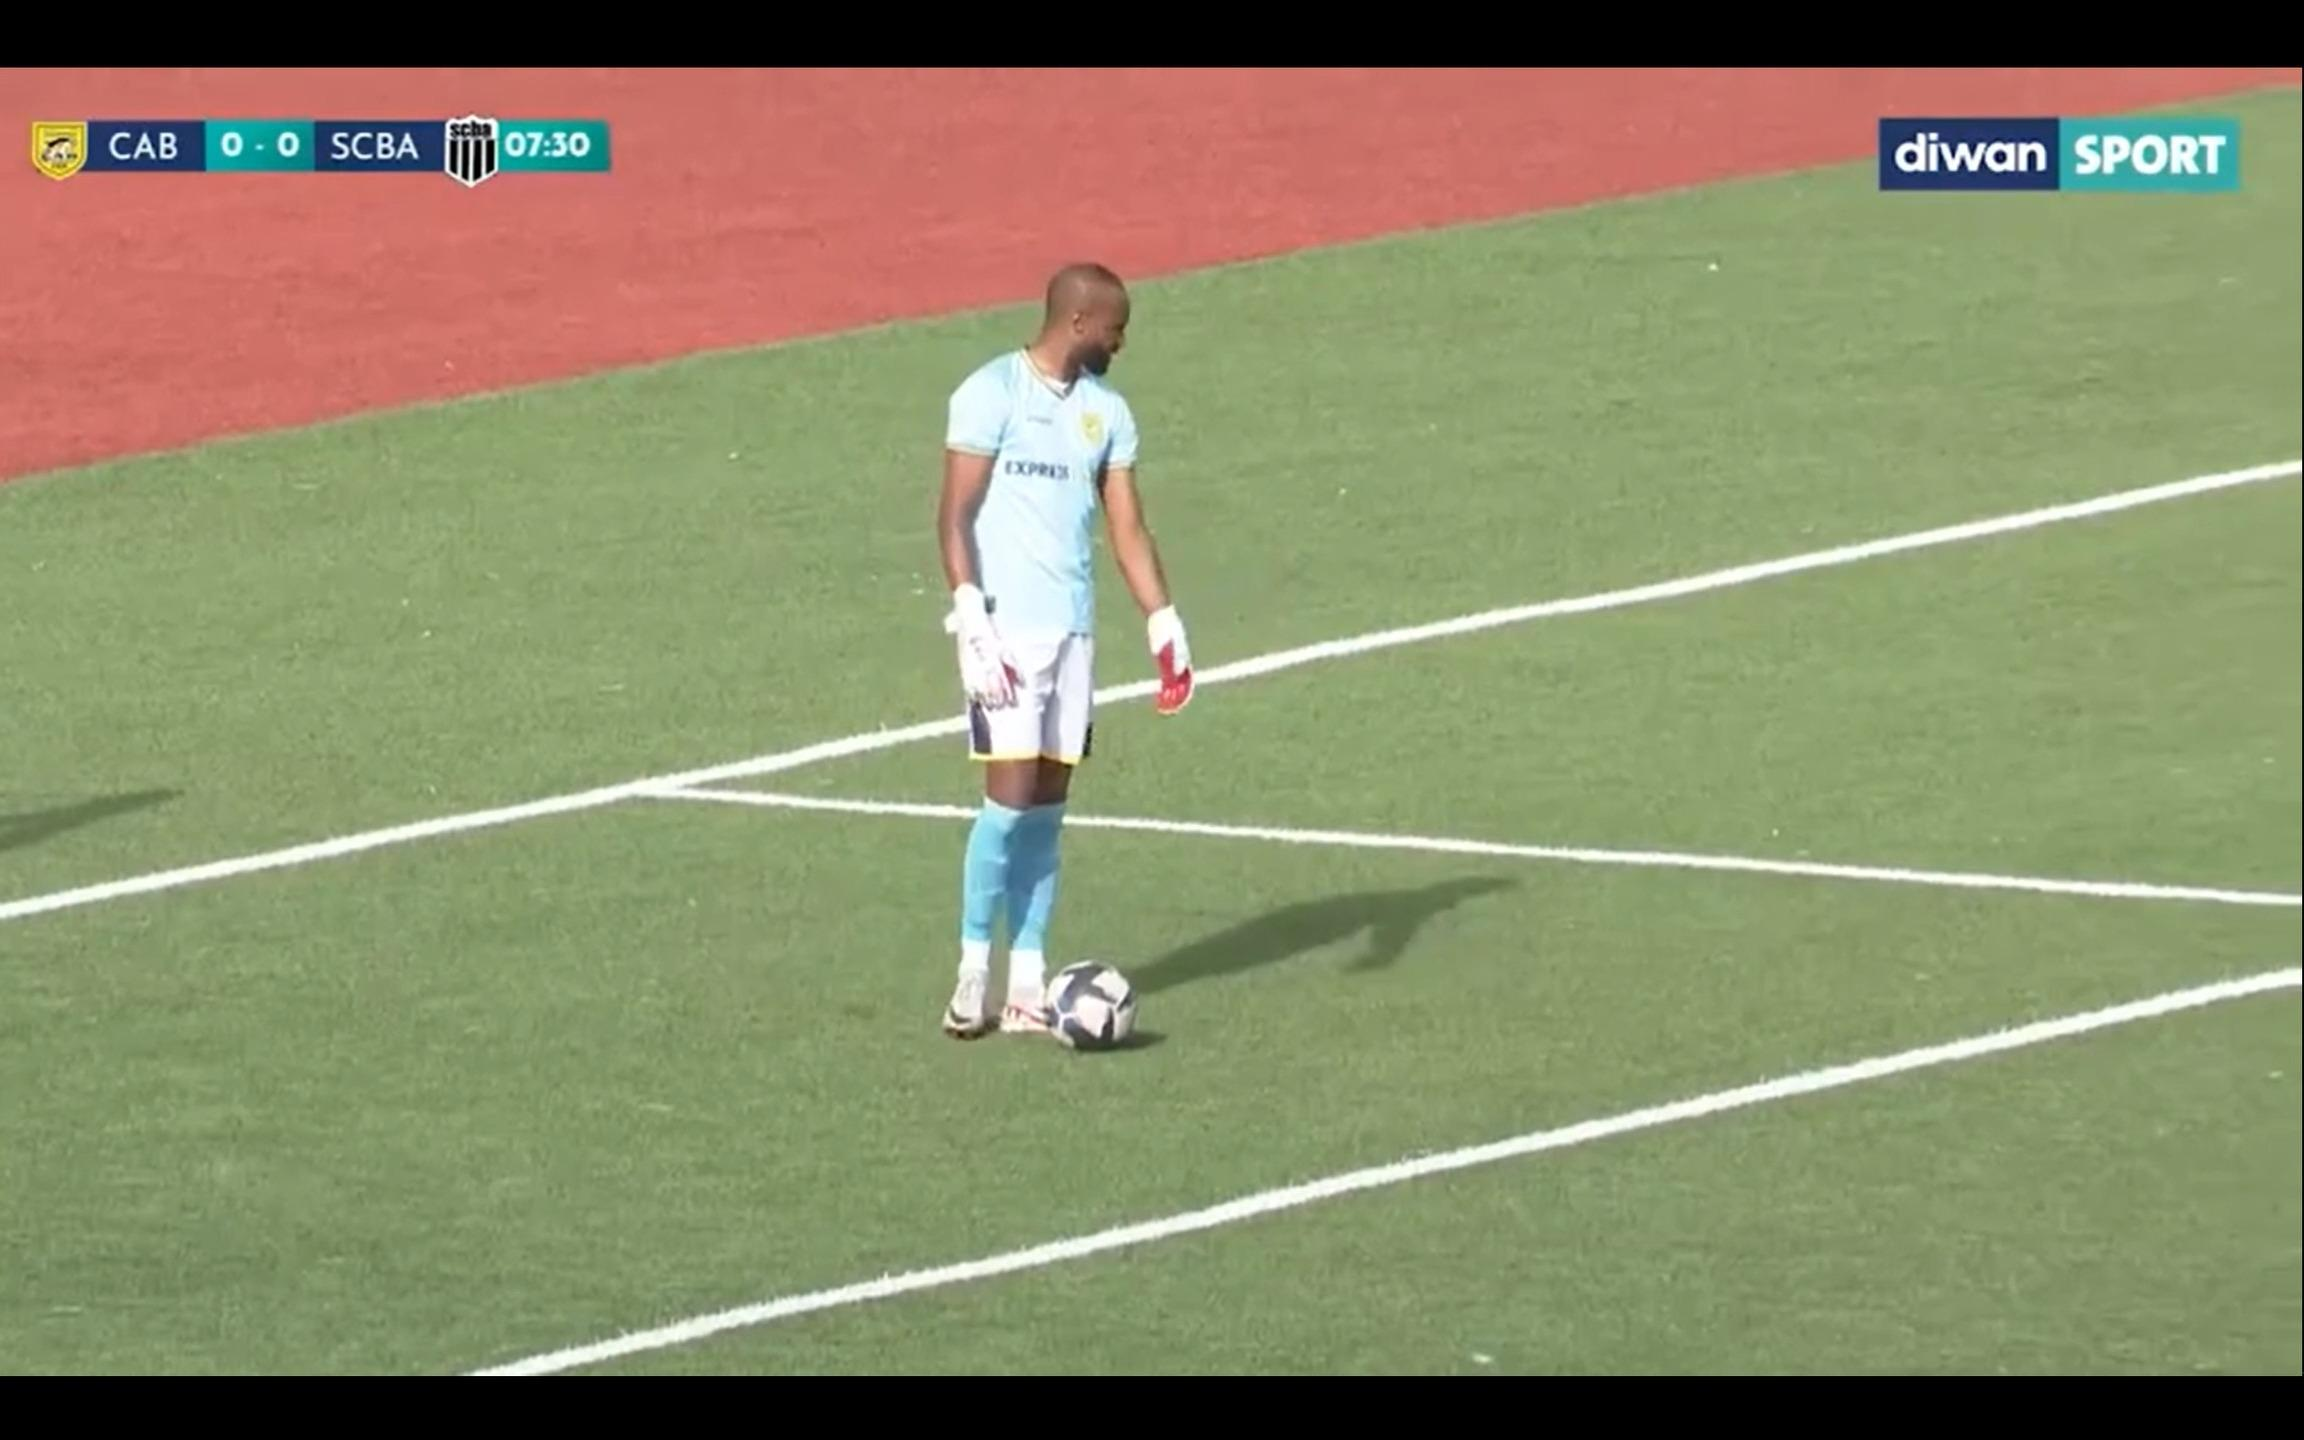ball: (1004, 924, 1176, 1075)
goalkeeper: (907, 197, 1203, 1057)
